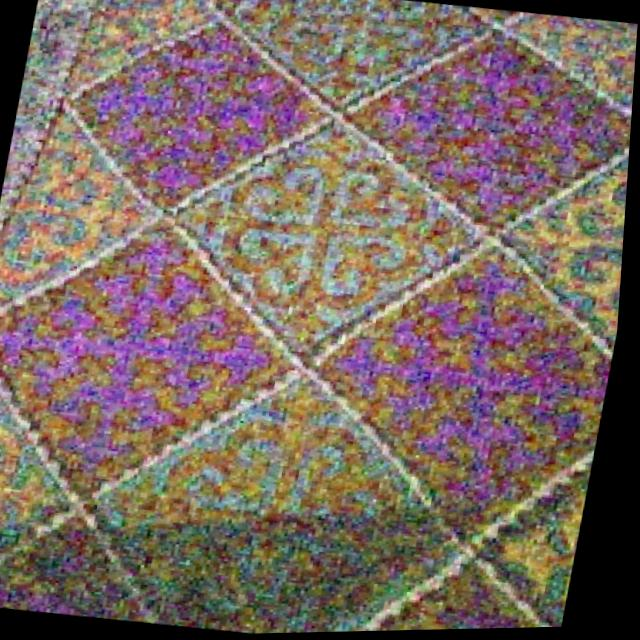Unity: (175, 123, 473, 346)
